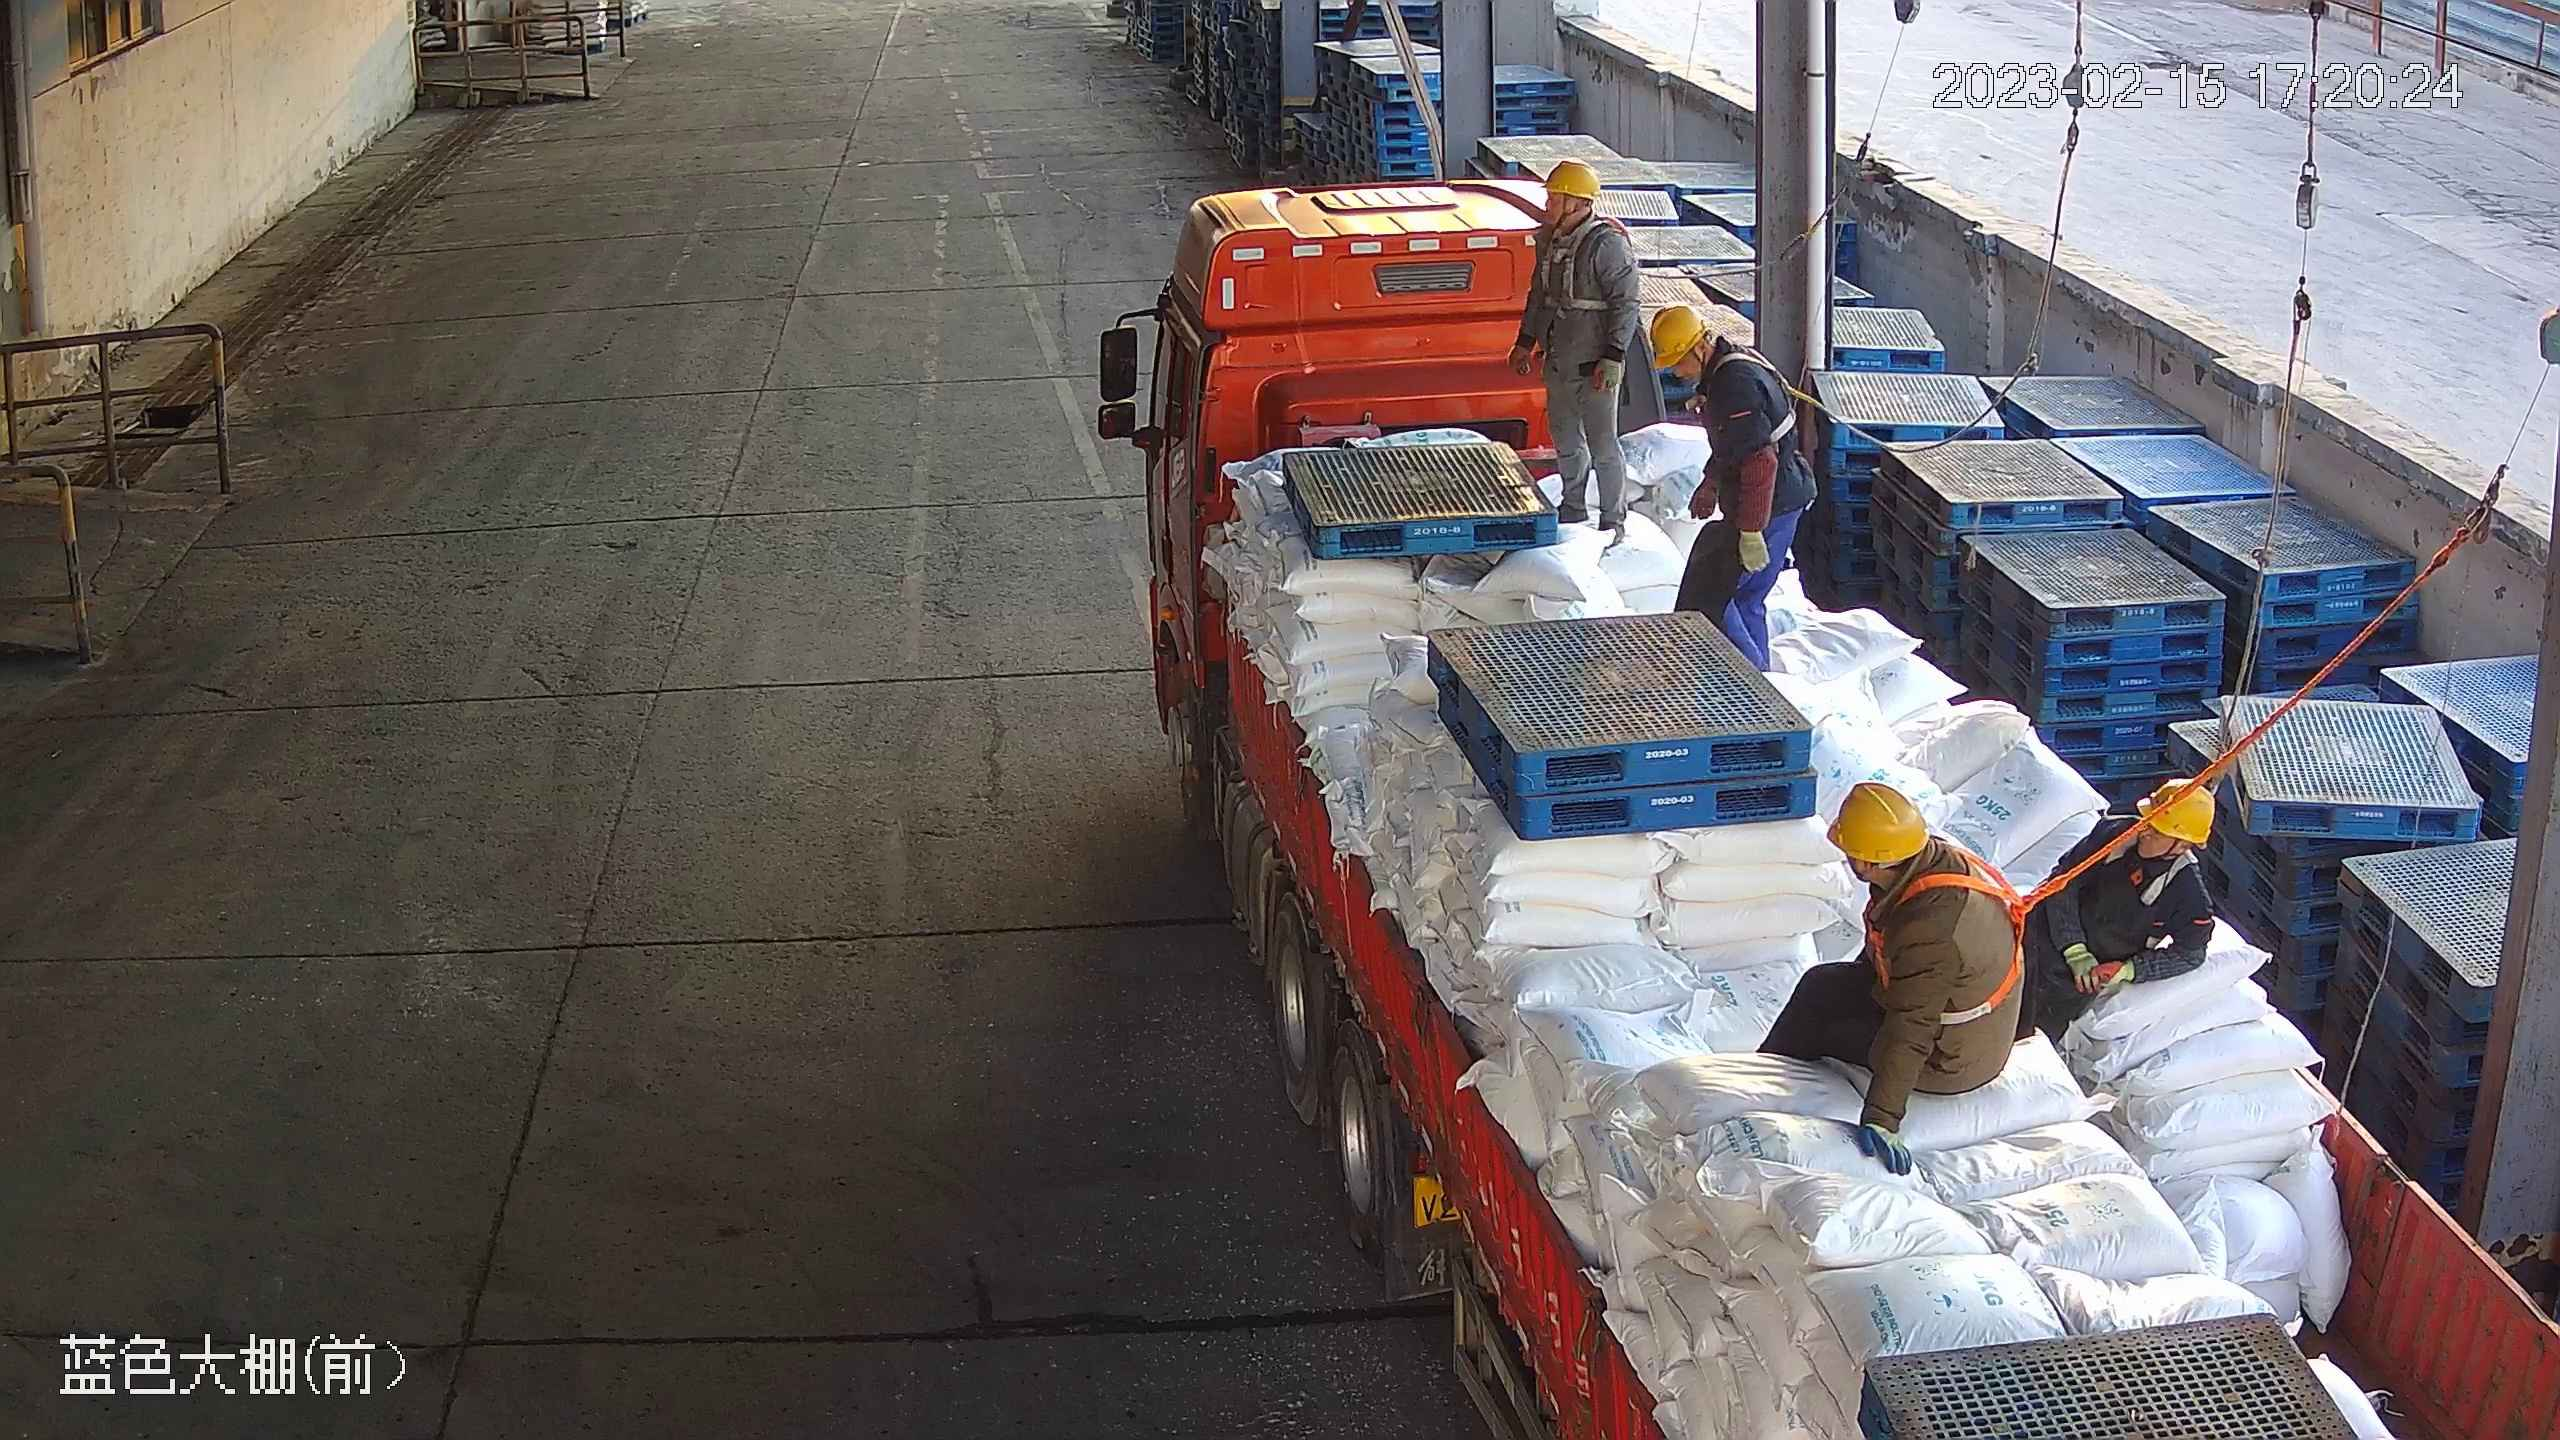belt: (1882, 854, 2040, 1034), (1536, 214, 1633, 316), (1718, 338, 1809, 441), (2099, 816, 2205, 906)
head: (1820, 777, 2022, 940), (2051, 782, 2207, 936), (1512, 167, 1644, 286), (1642, 308, 1788, 410)
helmet: (1823, 790, 1944, 869), (2125, 777, 2235, 849), (1646, 306, 1701, 379), (1542, 151, 1598, 201)
people: (1774, 786, 2046, 1169), (1638, 304, 1820, 682), (1507, 158, 1636, 540)
truck: (1105, 167, 2560, 1440)
